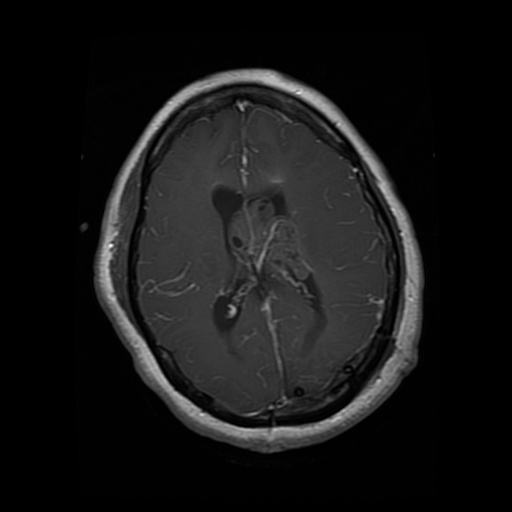glioma: (228, 197, 313, 308)
